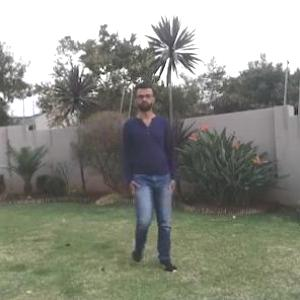follow: (128, 90, 175, 252)
